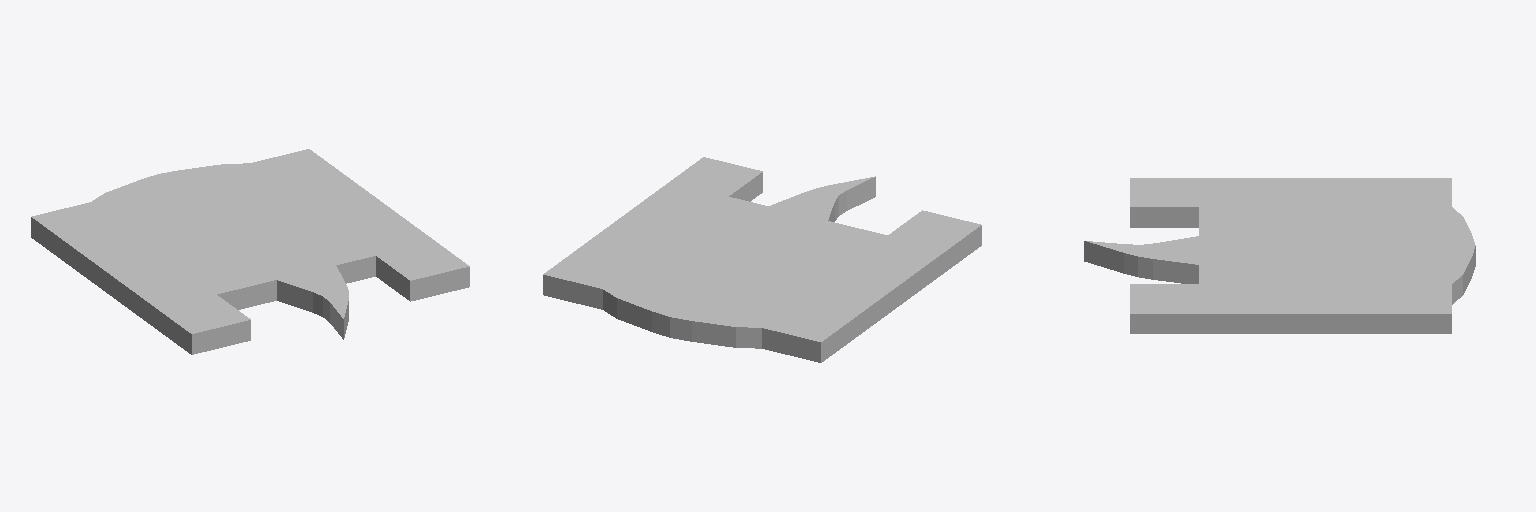
Rendered from iae.obj.
The picture shows the model from 3 angles: view 1: azimuth 30°, elevation 25°; view 2: azimuth 150°, elevation 25°; view 3: azimuth 270°, elevation 25°; orthographic projection.
Parts seen in each view (by area): view 1: Plane; view 2: Plane; view 3: Plane.
Part boxes in pixels (bbox=[...]): Plane: bbox=[31, 149, 469, 354]; Plane: bbox=[543, 157, 981, 362]; Plane: bbox=[1084, 178, 1475, 333].
Size of the model in its own units: 28 by 2 by 34.07.